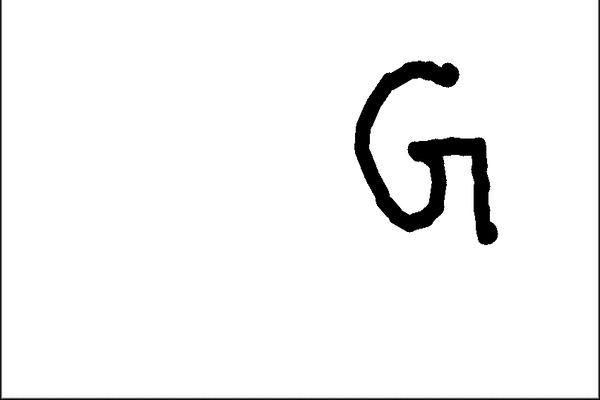G: (345, 54, 504, 251)
